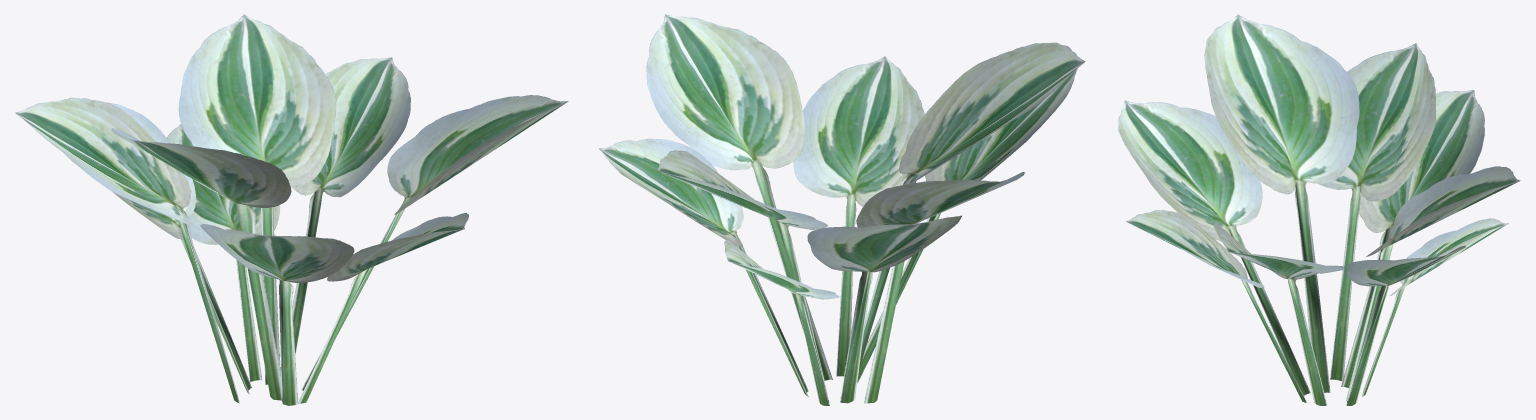
Rendered from plant_small_wg_01N.fbx.
3 renders of one model, left to right at view 1: azimuth 30°, elevation 25°; view 2: azimuth 150°, elevation 25°; view 3: azimuth 270°, elevation 25°, orthographic. The views are drawn at different scales.
Parts seen in each view (by area): view 1: plant_small_wg_01N; view 2: plant_small_wg_01N; view 3: plant_small_wg_01N.
Boxes of the visible parts, bbox=[...] form: plant_small_wg_01N: bbox=[15, 14, 568, 405]; plant_small_wg_01N: bbox=[599, 14, 1085, 405]; plant_small_wg_01N: bbox=[1118, 14, 1520, 405].
Bounding box in the file's own units: 79.38 × 57.47 × 71.06.
